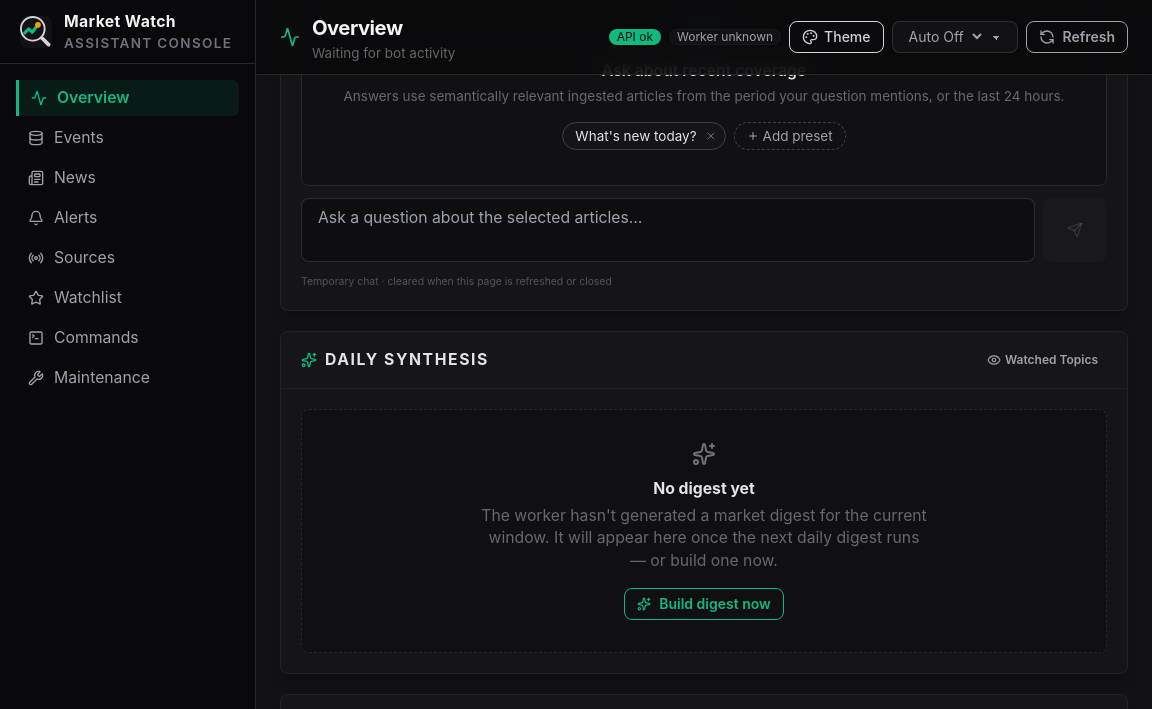
Test: App data states › saves watched topics without rebuilding the digest
(page scrolled)
Click the button "Watched Topics" at x=1042, y=360, box x1=978 y1=348 x2=1107 y2=372
(page scrolled)
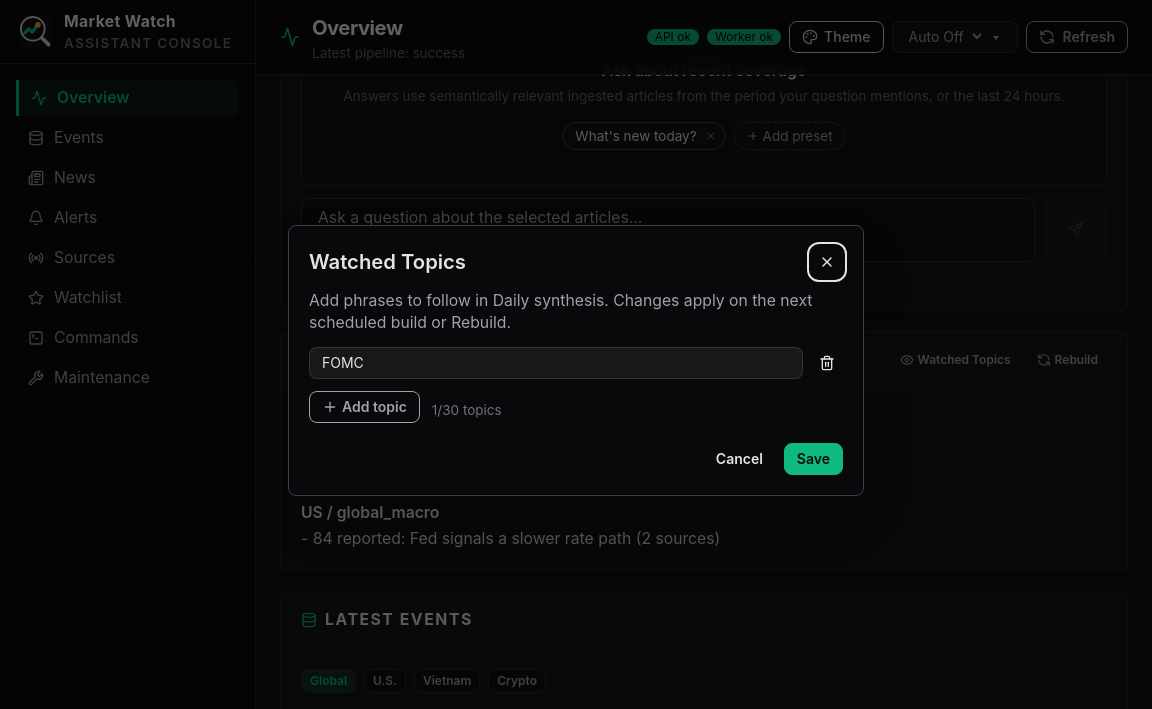
Check: the field named "Topic 1" is shown, box x1=309 y1=346 x2=803 y2=378
Click the button "Save" at x=813, y=458, box x1=784 y1=442 x2=843 y2=474
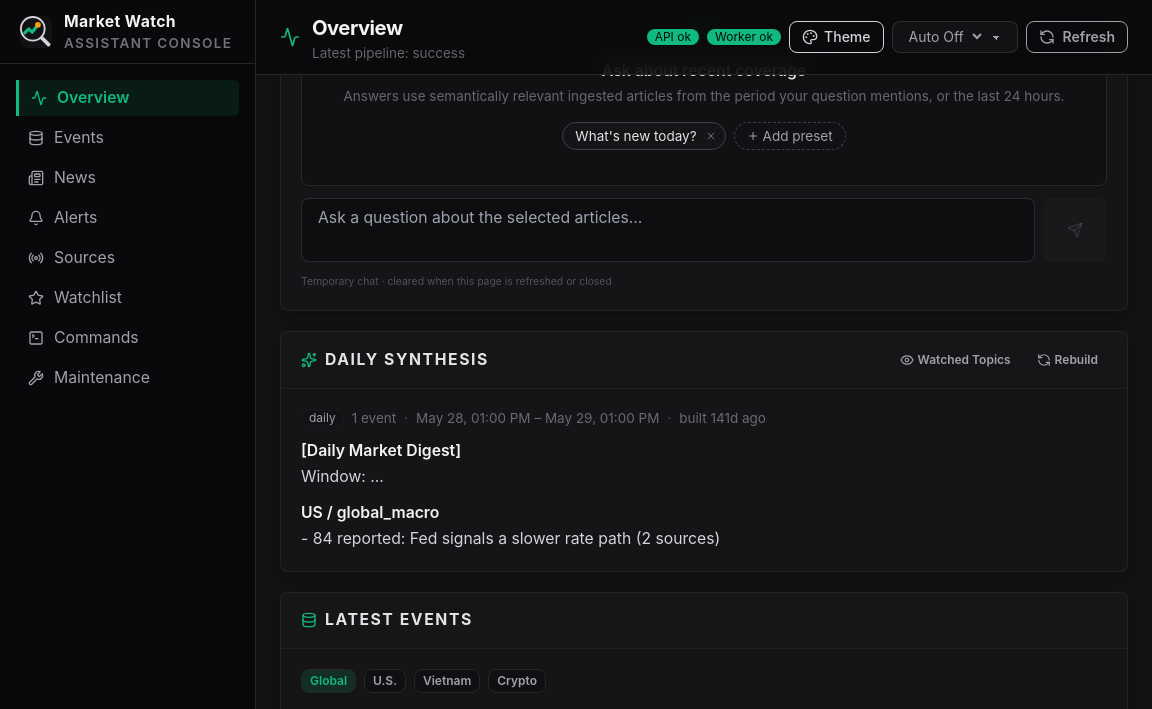
Check: the dialog is gone
